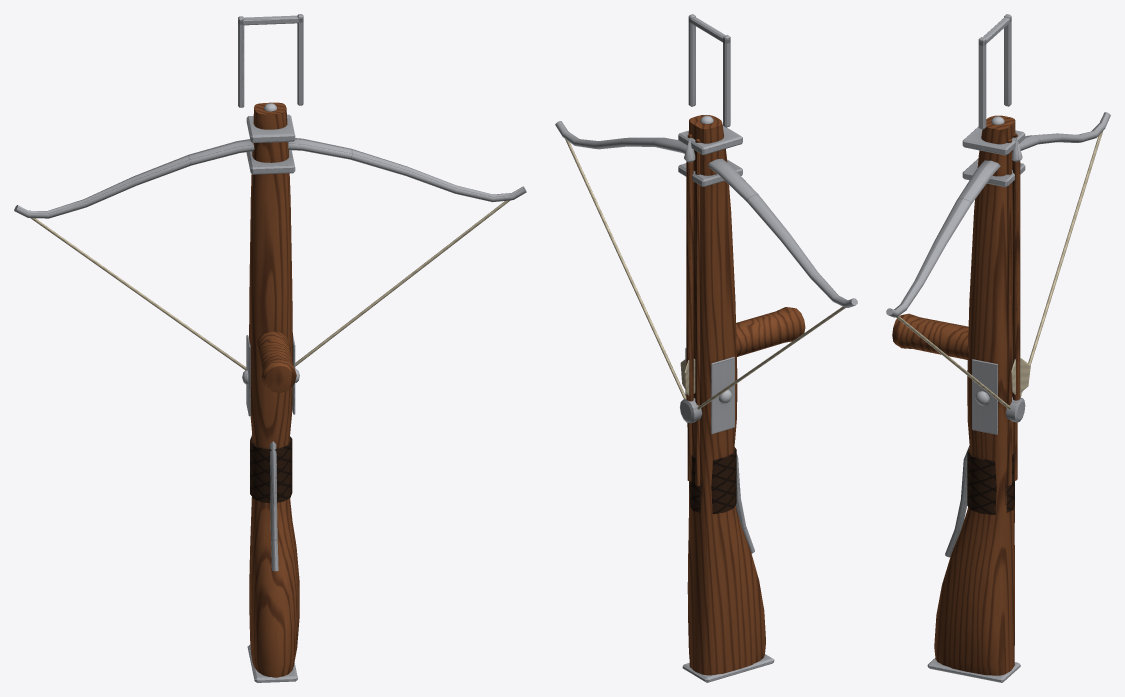
The model's file is w_crossbow.glb.
The picture shows the model from 3 angles, left to right: view 1: azimuth 30°, elevation 25°; view 2: azimuth 150°, elevation 25°; view 3: azimuth 270°, elevation 25°; orthographic projection.
Parts seen in each view (by area): view 1: w_crossbow; view 2: w_crossbow; view 3: w_crossbow.
Boxes of the visible parts, x1,y1,x2,y2 form: w_crossbow: (14,14,526,682); w_crossbow: (555,14,857,682); w_crossbow: (886,14,1110,682).
Bounding box in the file's own units: 37.72 × 56.95 × 17.96.
1 material, 1 textured.
